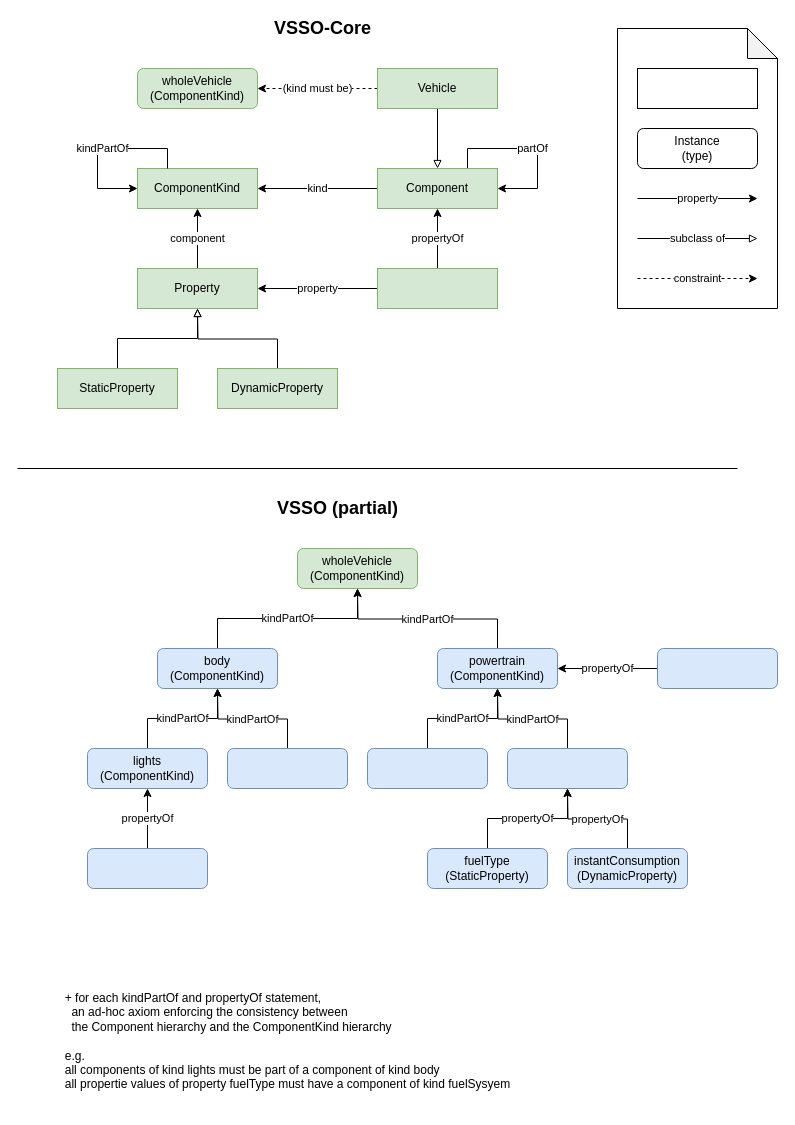
This 795x1125 diagram has some shape labels left out. Each missing label, with the centre of its shape:
"battery (ComponentKind)" goes at point 427,768.
"Class" goes at point 697,88.
"fuelSystem (ComponentKind)" goes at point 567,768.
"isBrakeOn (DynamicProperty)" goes at point 147,868.
"PropertyValue" goes at point 437,288.
"Range (DynamicProperty)" goes at point 717,668.
"windshield (ComponentKind)" goes at point 287,768.
